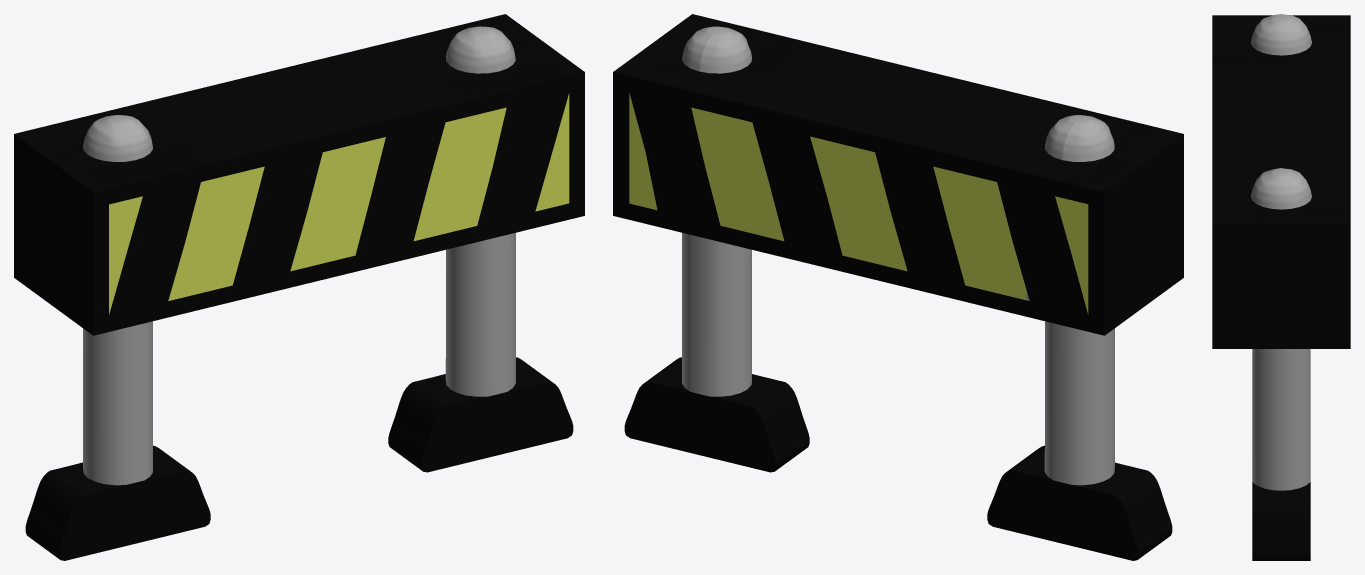
File: SideBlock_02.fbx
The picture shows the model from 3 angles, left to right: view 1: azimuth 30°, elevation 25°; view 2: azimuth 150°, elevation 25°; view 3: azimuth 270°, elevation 25°; orthographic projection. The views are drawn at different scales.
Visible parts, largest first — view 1: Side_Block_02; view 2: Side_Block_02; view 3: Side_Block_02.
Boxes of the visible parts, x1,y1,x2,y2 form: Side_Block_02: (14,14,584,560); Side_Block_02: (613,14,1183,560); Side_Block_02: (1212,14,1350,560).
Size of the model in its own units: 196 by 150 by 52.29.
